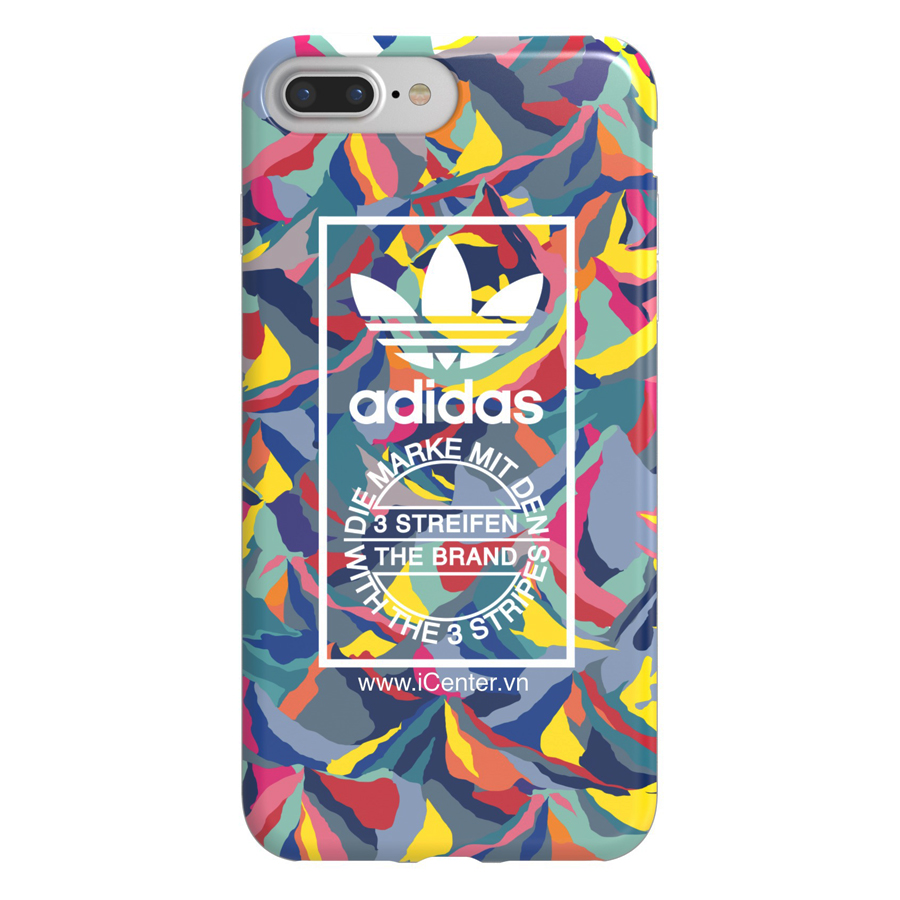Adidas: (336, 229, 558, 432)
